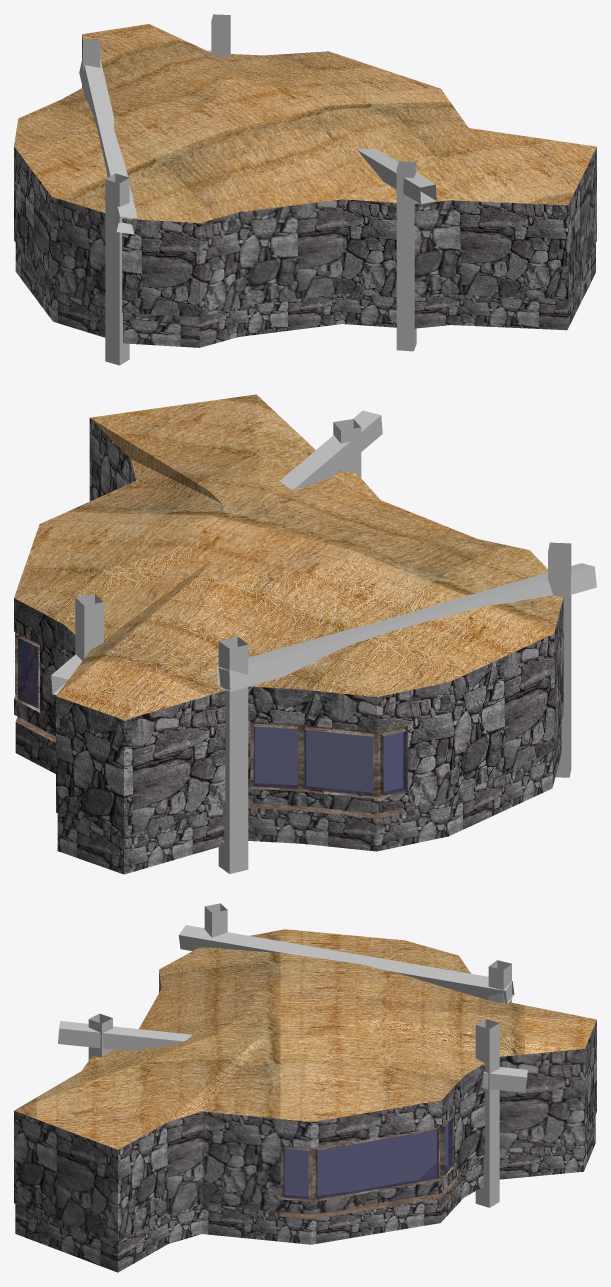
File: Room.fbx
3 renders of one model, top to bottom at view 1: azimuth 30°, elevation 25°; view 2: azimuth 150°, elevation 25°; view 3: azimuth 270°, elevation 25°, orthographic. The views are drawn at different scales.
Visible parts, largest first — view 1: Room, Wood_Beam, Wood_Beam_1, pasted__Wood_Beam, pasted__Wood_Beam1, Wood_Beam_2, Wood_Beam_3; view 2: Room, pasted__Wood_Beam, Wood_Beam_3, pasted__Wood_Beam1, Wood_Beam, Wood_Beam_2, Wood_Beam_1; view 3: Room, pasted__Wood_Beam, pasted__Wood_Beam1, Wood_Beam_2, Wood_Beam_3, Wood_Beam, Wood_Beam_1.
Boxes of the visible parts, box(x1,y1,x2,y2) form: Room: box(14, 24, 596, 347); Wood_Beam: box(105, 173, 129, 365); Wood_Beam_1: box(396, 161, 416, 351); pasted__Wood_Beam: box(79, 57, 137, 234); pasted__Wood_Beam1: box(208, 50, 436, 203); Wood_Beam_2: box(211, 14, 230, 56); Wood_Beam_3: box(83, 40, 100, 70); Room: box(14, 394, 563, 874); pasted__Wood_Beam: box(216, 563, 596, 691); Wood_Beam_3: box(218, 636, 248, 873); pasted__Wood_Beam1: box(51, 410, 382, 695); Wood_Beam: box(548, 542, 571, 777); Wood_Beam_2: box(75, 593, 103, 660); Wood_Beam_1: box(333, 419, 361, 477); Room: box(14, 929, 596, 1272); pasted__Wood_Beam: box(178, 925, 514, 1003); pasted__Wood_Beam1: box(58, 1021, 527, 1092); Wood_Beam_2: box(475, 1019, 499, 1207); Wood_Beam_3: box(488, 960, 511, 1003); Wood_Beam: box(204, 903, 227, 937); Wood_Beam_1: box(88, 1013, 112, 1060).
Size of the model in its own units: 346 by 131 by 386.
